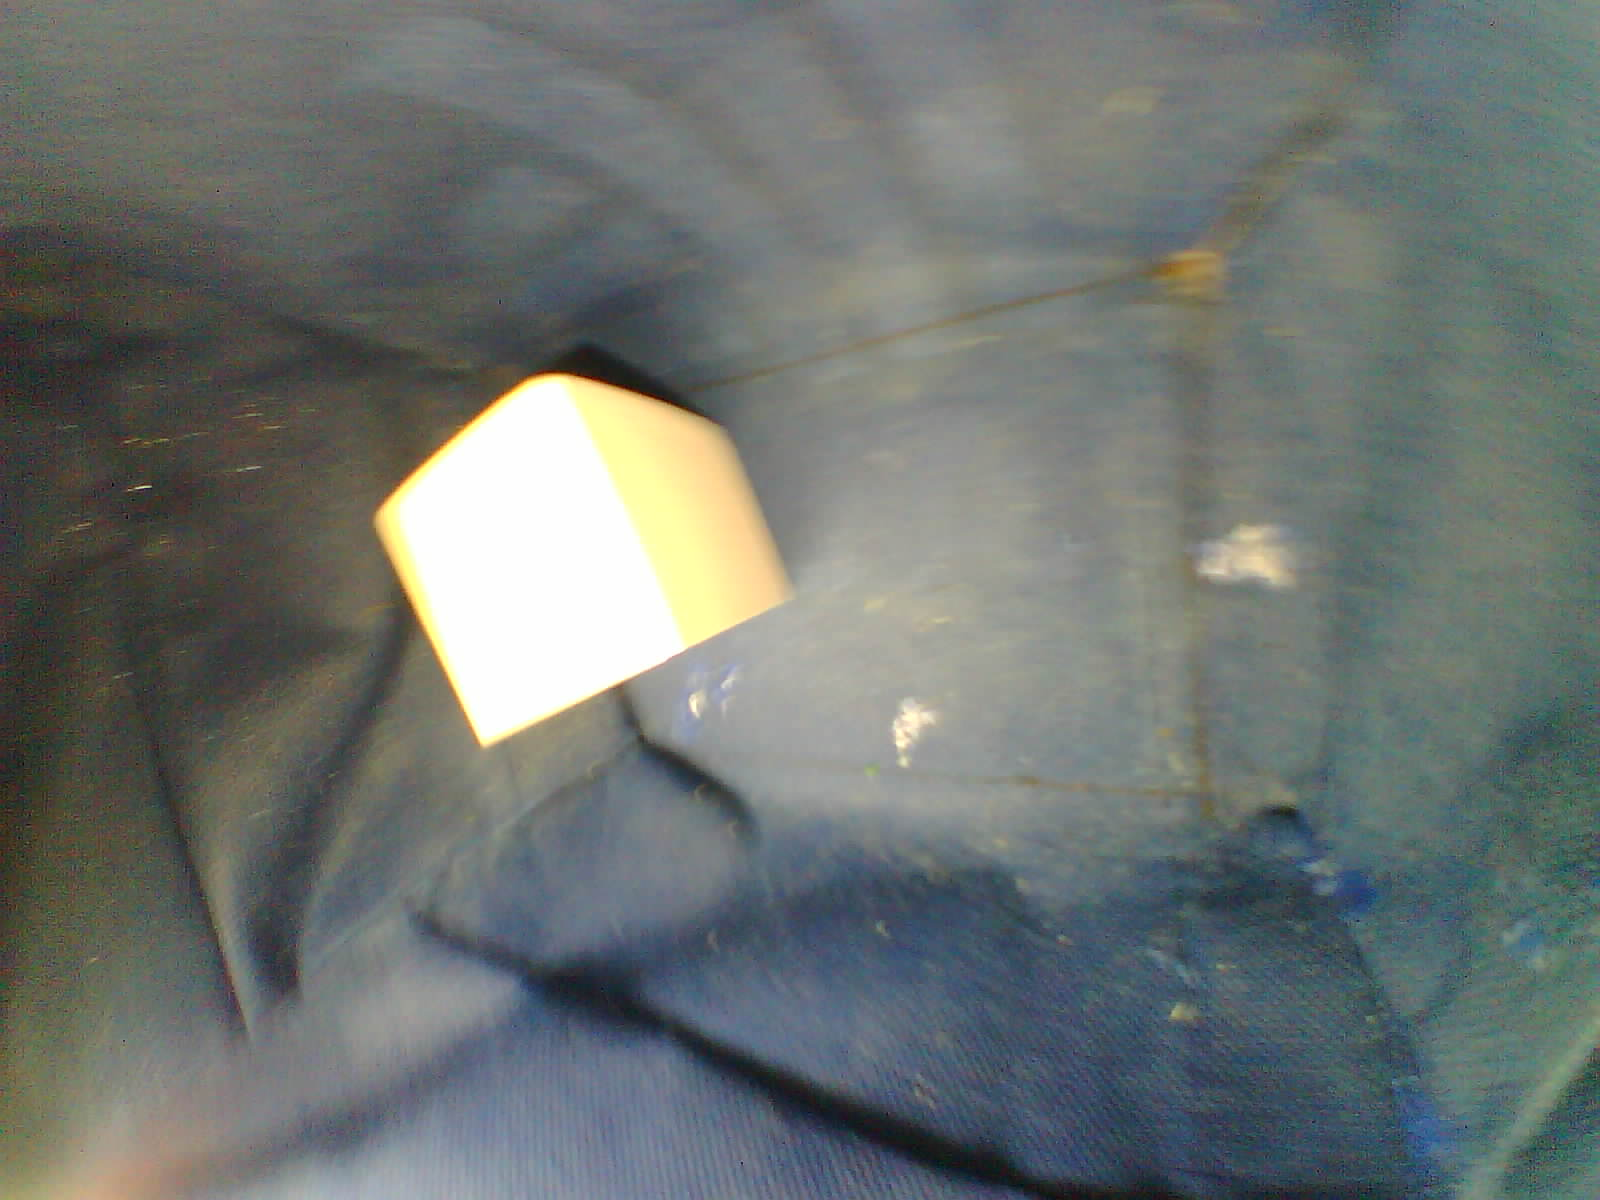cube-hard: (346, 350, 794, 787)
